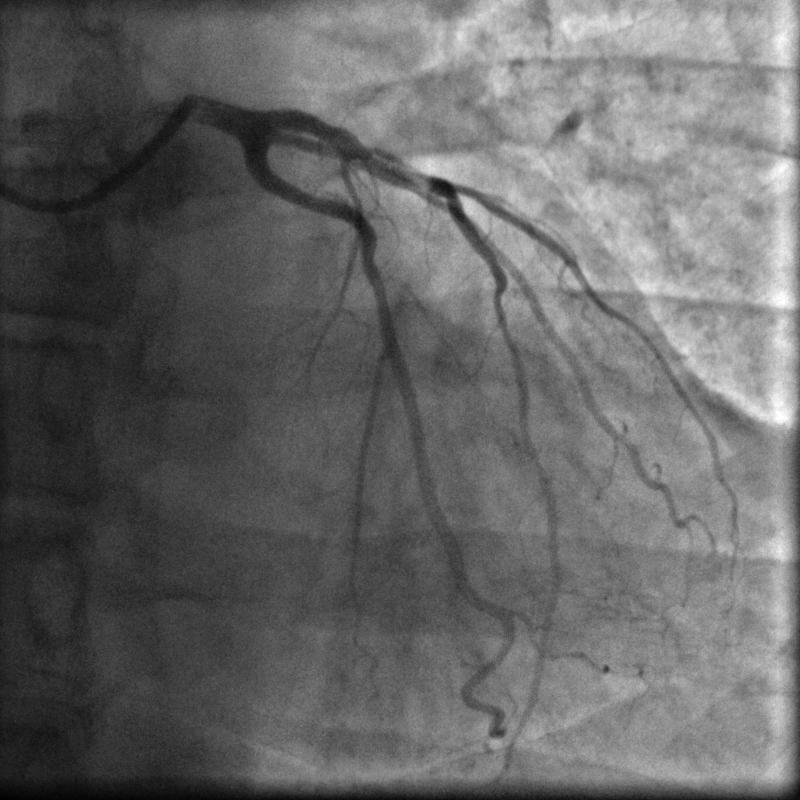Stenosis: (353, 144, 440, 186)
